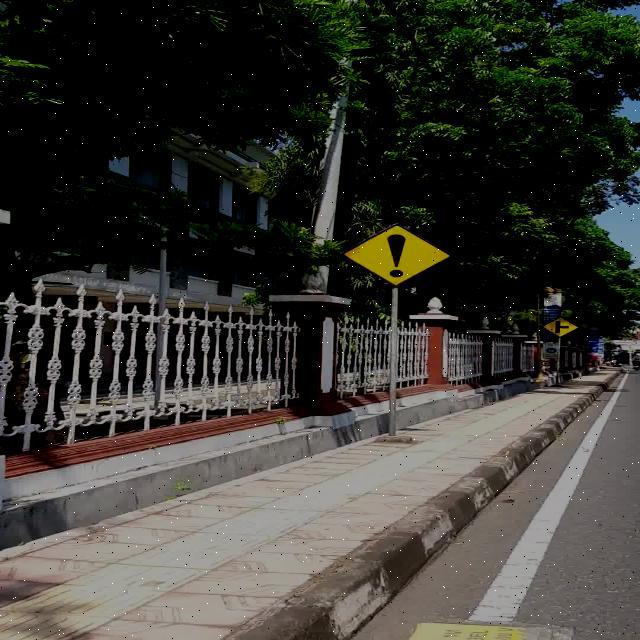Hati-Hati: (342, 222, 454, 286)
